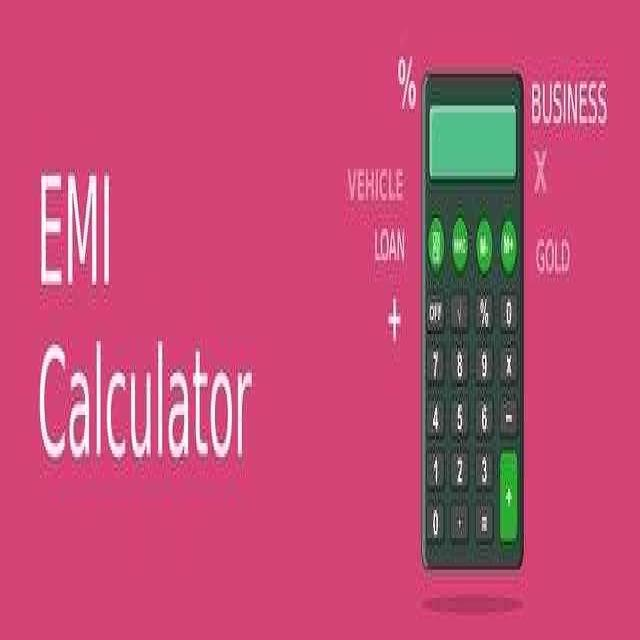Calculator: (421, 70, 522, 566)
